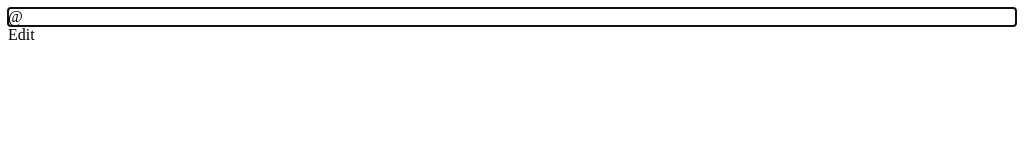
completion list: the active entry follows real pointer movement › Tab picks the pointer row as well
The width and height of the screenshot is (1024, 160).
Clear the field named "Edit" at (15, 16), box left=8, top=8, right=23, bottom=25
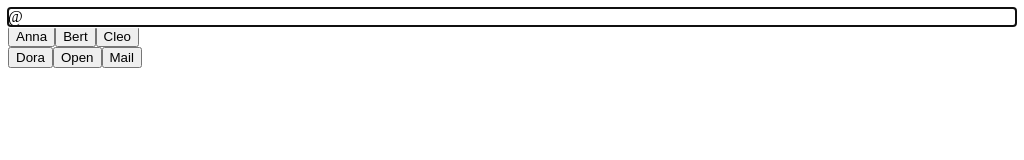
Now the list is shown, box left=8, top=26, right=142, bottom=68
Press Tab in the field named "Edit", box left=8, top=8, right=23, bottom=25
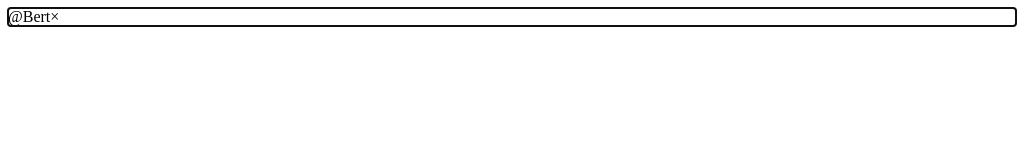
Now the element showing "@Bert ×" is shown, box left=8, top=8, right=59, bottom=25
